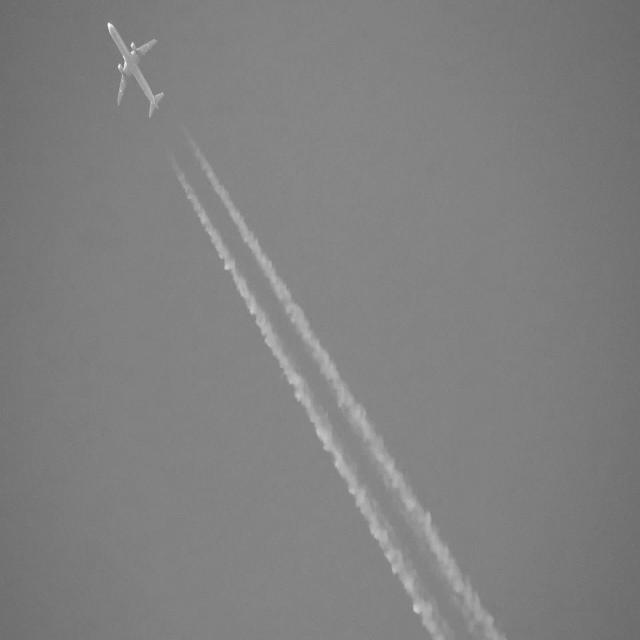aeroplane: (106, 18, 167, 124)
